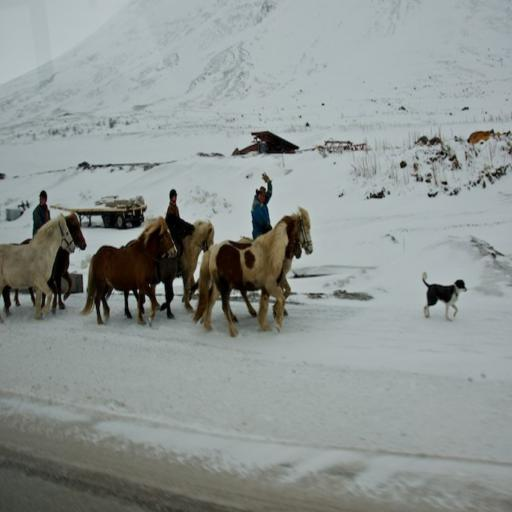horse: (182, 205, 314, 321), (188, 211, 302, 338), (76, 212, 181, 328), (120, 216, 218, 309), (0, 211, 76, 325), (8, 212, 86, 310)
